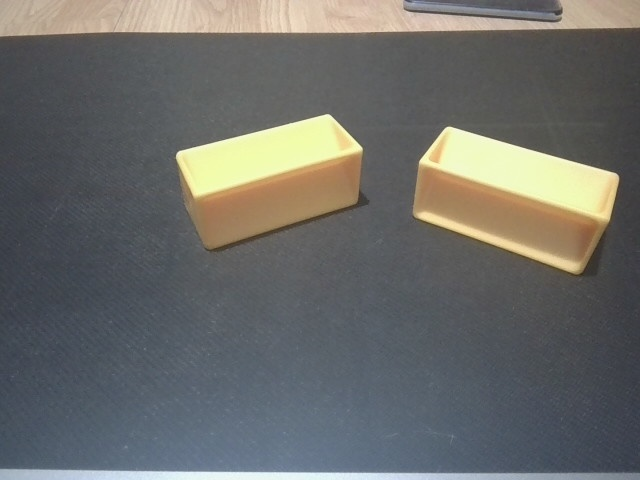YellowSample: (409, 122, 622, 282), (170, 112, 365, 254)
